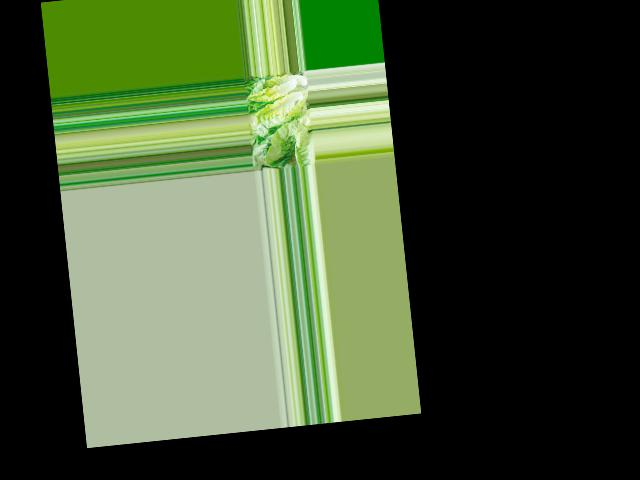lettuce: (248, 72, 313, 138)
